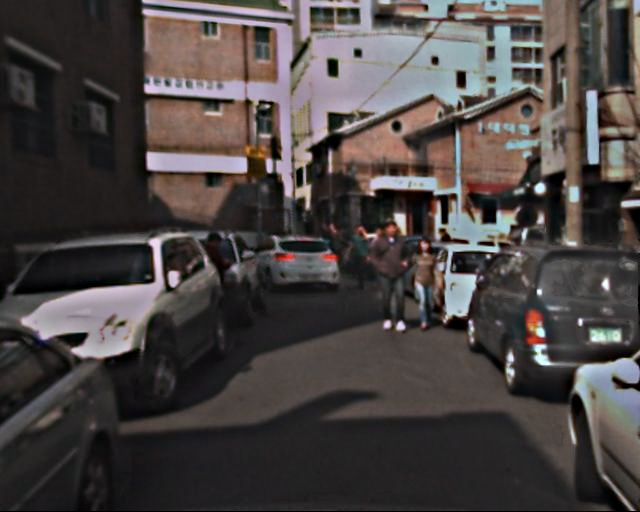person: (368, 223, 415, 337), (195, 230, 238, 336), (405, 241, 441, 329), (350, 227, 375, 289), (322, 219, 352, 260)
